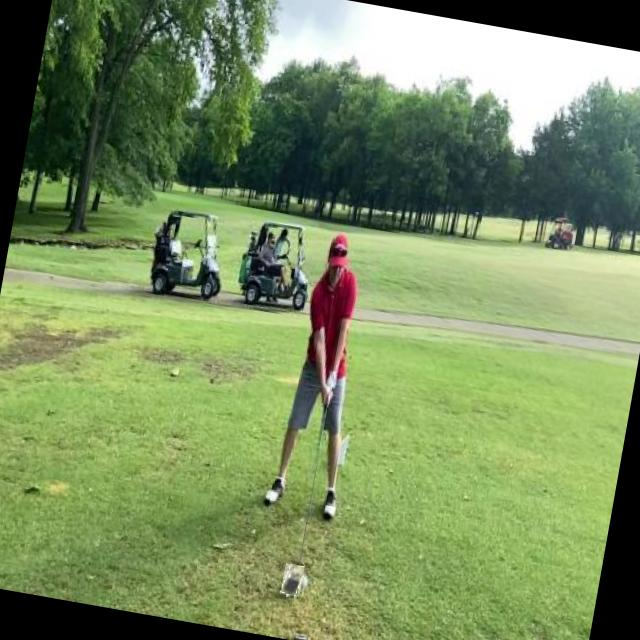club head: (280, 563, 304, 598)
